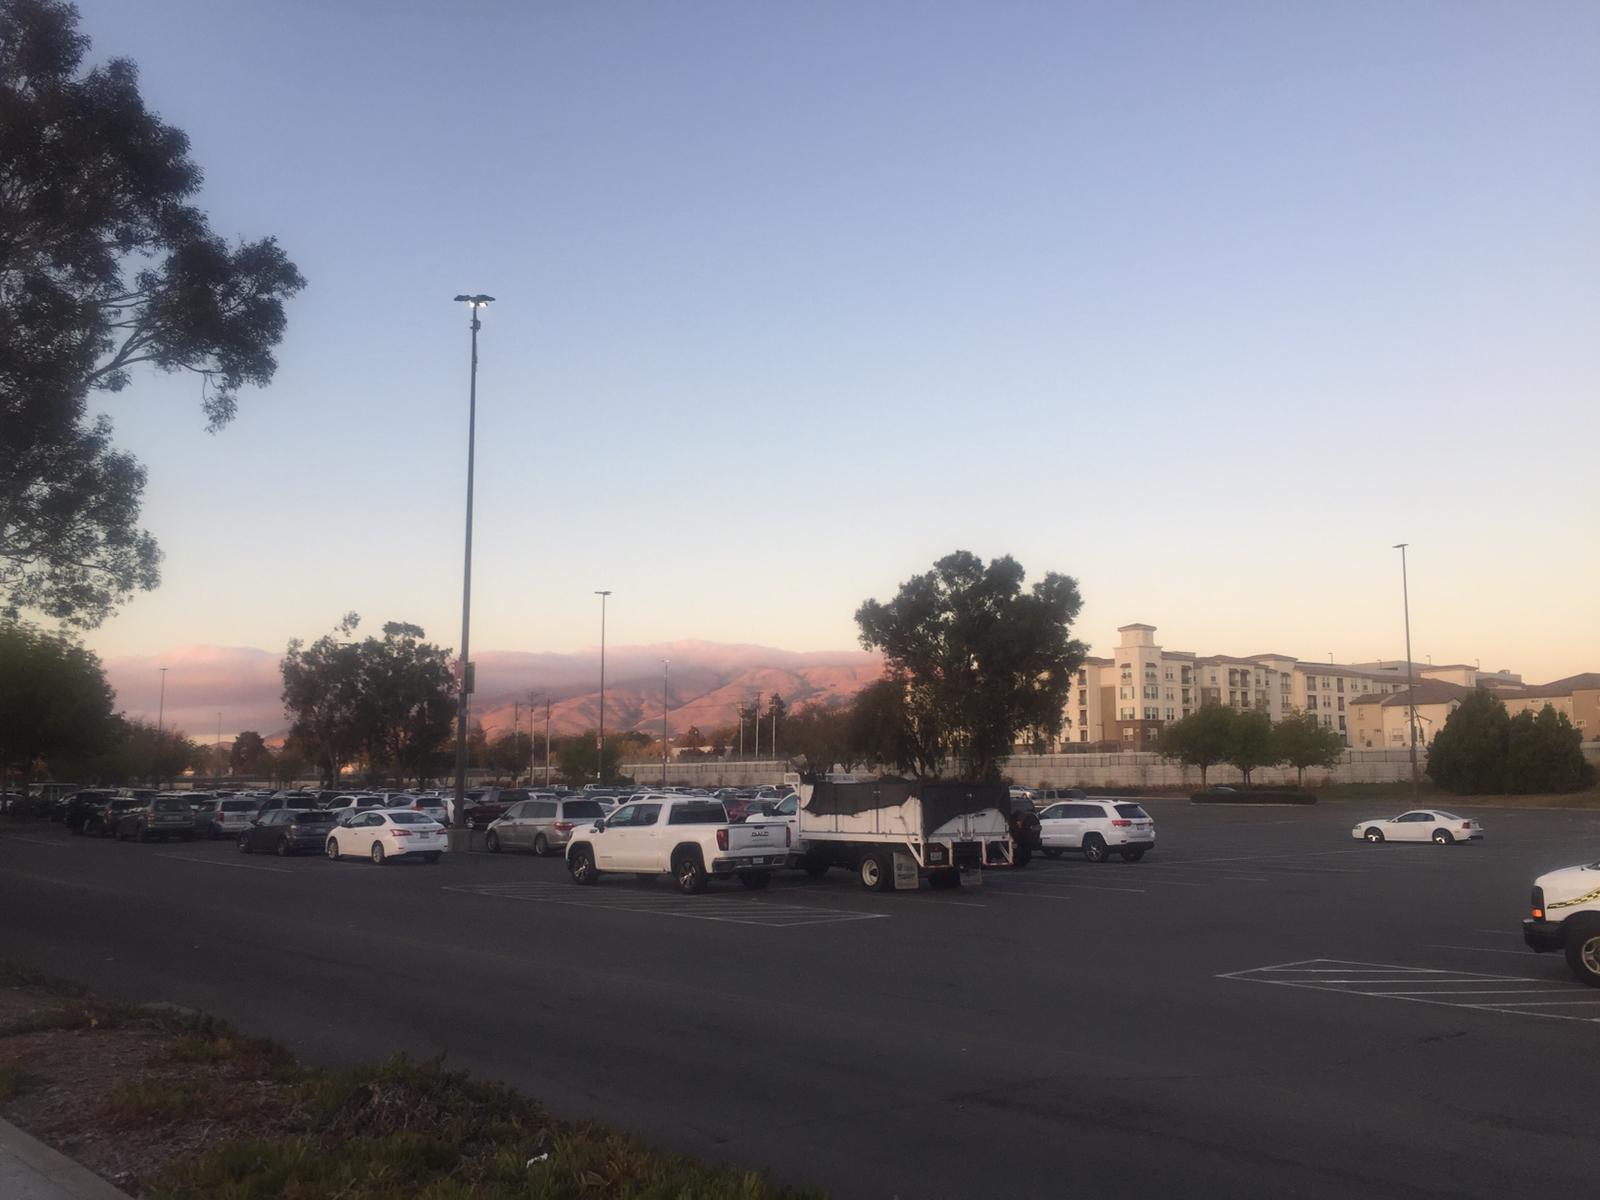plants: (6, 6, 296, 592), (878, 560, 1089, 778), (294, 632, 452, 770), (11, 629, 121, 785), (1427, 696, 1591, 785), (1170, 711, 1334, 793), (477, 734, 616, 770), (127, 721, 214, 778), (232, 739, 268, 771)
